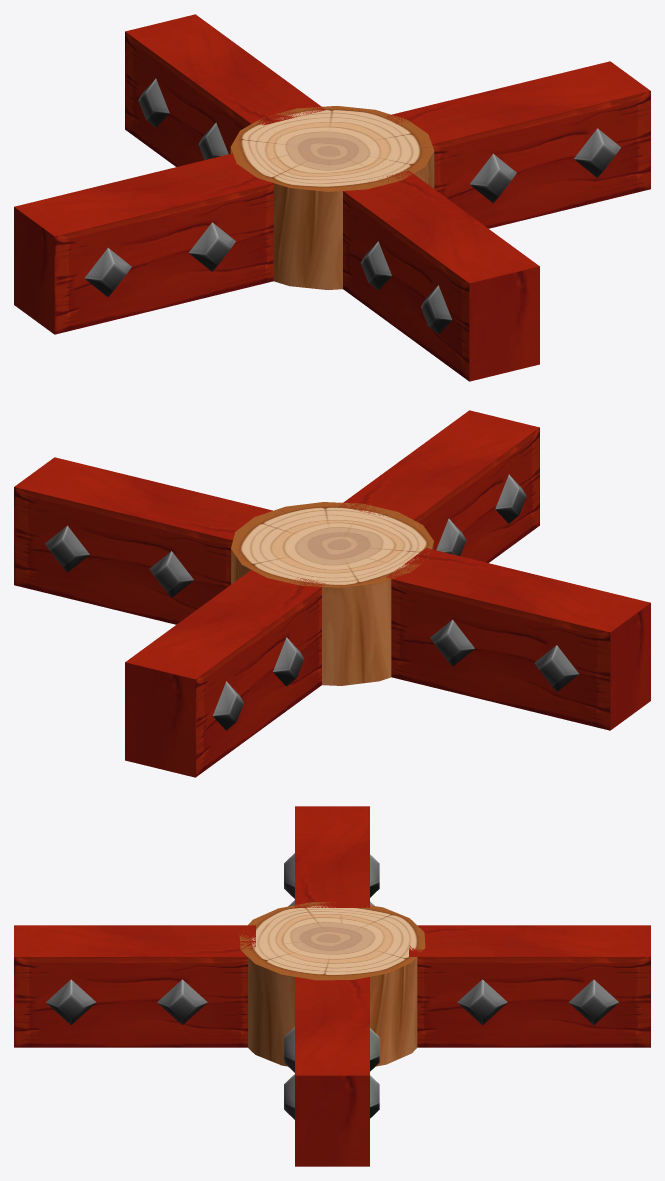
The model's file is four_blade_red_01.fbx.
The picture shows the model from 3 angles, top to bottom: view 1: azimuth 30°, elevation 25°; view 2: azimuth 150°, elevation 25°; view 3: azimuth 270°, elevation 25°; orthographic projection. The views are drawn at different scales.
Parts seen in each view (by area): view 1: Blade_16, Blade_18, Blade_15, wood_center_21, Blade_17; view 2: Blade_16, Blade_18, Blade_17, wood_center_21, Blade_15; view 3: Blade_15, Blade_17, wood_center_21, Blade_18, Blade_16.
Boxes of the visible parts, x1,y1,x2,y2 form: Blade_16: (14, 153, 273, 334); Blade_18: (386, 61, 650, 228); Blade_15: (343, 170, 539, 381); wood_center_21: (230, 106, 434, 289); Blade_17: (125, 14, 325, 166); Blade_16: (386, 548, 650, 730); Blade_18: (14, 457, 272, 624); Blade_17: (125, 570, 325, 777); wood_center_21: (231, 502, 433, 685); Blade_15: (340, 410, 539, 562); Blade_15: (14, 925, 255, 1047); Blade_17: (409, 925, 650, 1047); wood_center_21: (239, 902, 425, 1066); Blade_18: (284, 977, 379, 1166); Blade_16: (284, 806, 379, 907).
Size of the model in its own units: 254 by 40 by 254.
